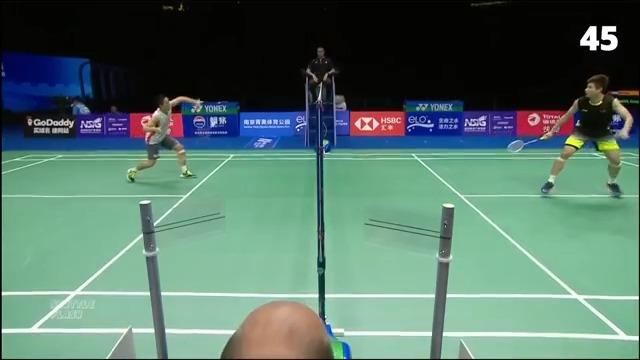Shuttlecock: (206, 117, 222, 133)
